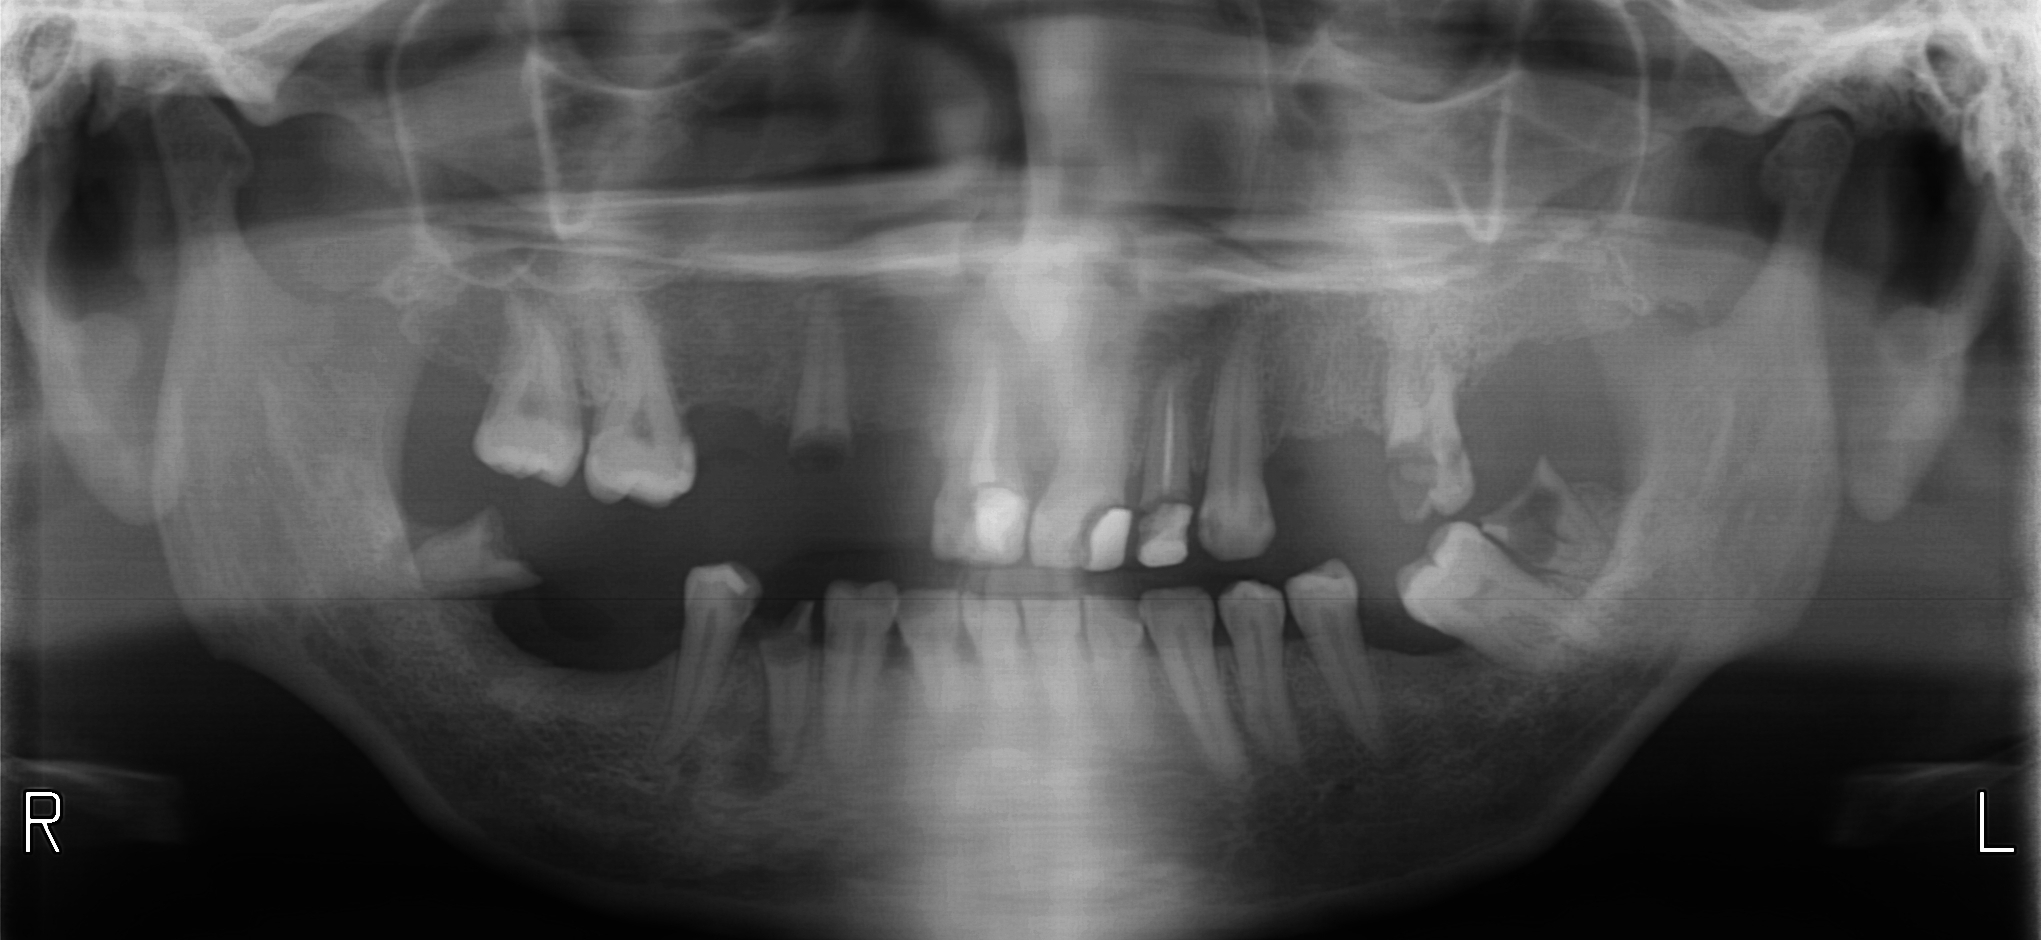cavity: (1503, 488, 1566, 556), (1389, 439, 1431, 510), (1073, 504, 1122, 553), (729, 592, 747, 618), (1453, 441, 1464, 463), (825, 621, 833, 654), (679, 421, 686, 447)
